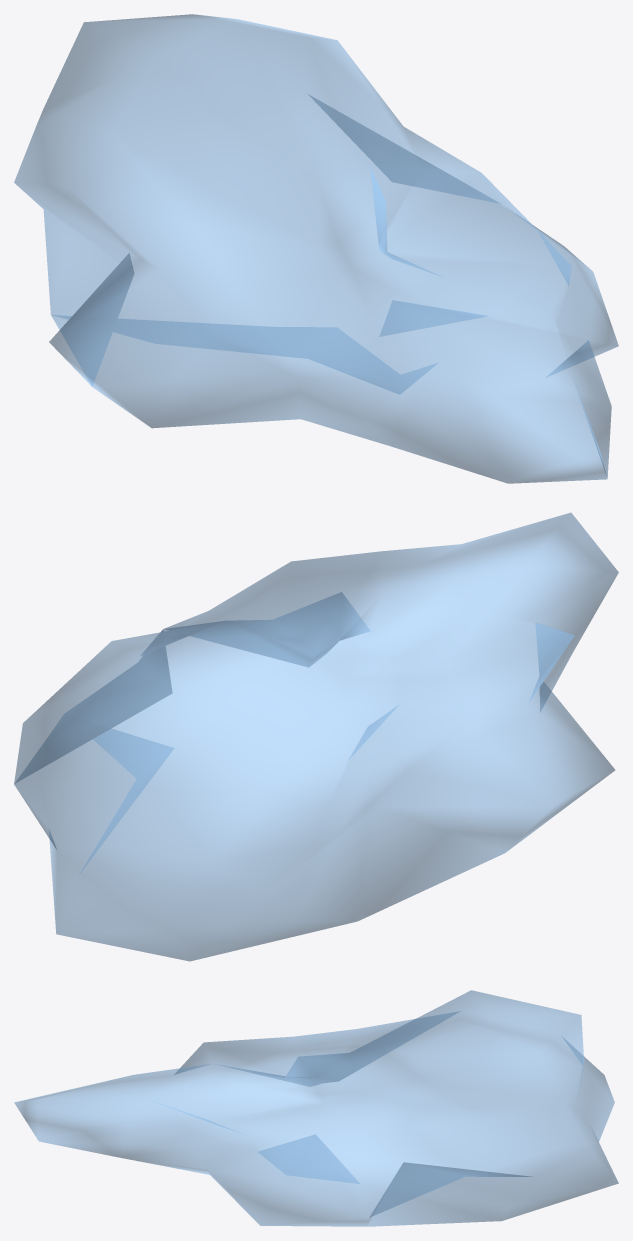
The model's file is msiphon_shield.gltf.
3 renders of one model, top to bottom at view 1: azimuth 30°, elevation 25°; view 2: azimuth 150°, elevation 25°; view 3: azimuth 270°, elevation 25°, orthographic. The views are drawn at different scales.
Parts seen in each view (by area): view 1: msiphon.shield; view 2: msiphon.shield; view 3: msiphon.shield.
Part boxes in pixels (box(x1,y1,x2,y2)): msiphon.shield: box(14, 14, 618, 483); msiphon.shield: box(14, 512, 618, 961); msiphon.shield: box(14, 990, 618, 1226).
Size of the model in its own units: 12.26 by 6.77 by 20.03.
